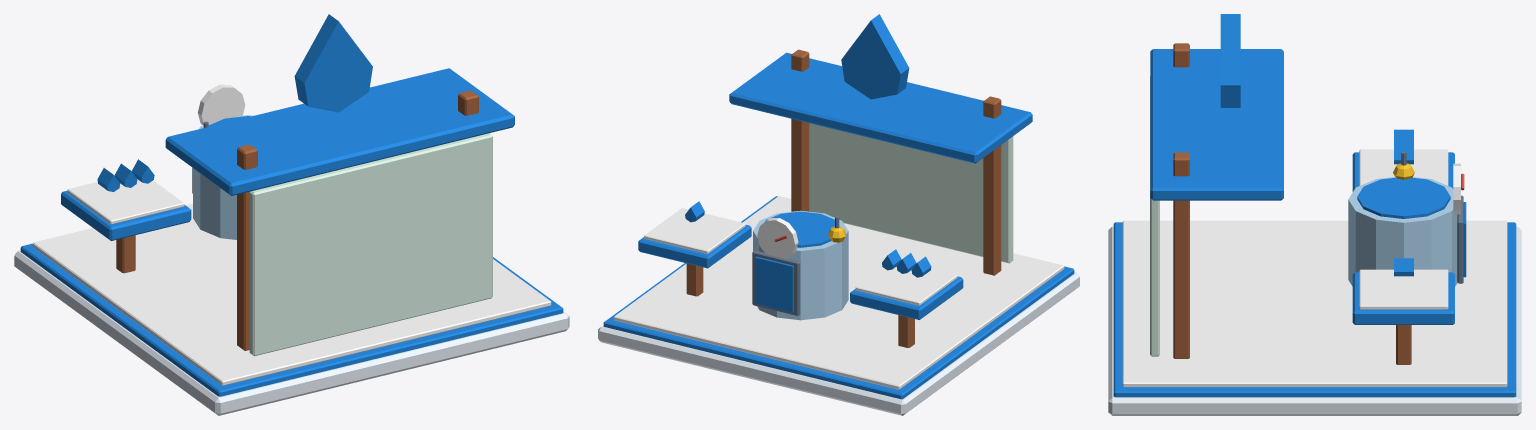
The model's file is Building_WaterAmplifier_2x2_v002.fbx.
3 renders of one model, left to right at view 1: azimuth 30°, elevation 25°; view 2: azimuth 150°, elevation 25°; view 3: azimuth 270°, elevation 25°, orthographic. The views are drawn at different scales.
Parts seen in each view (by area): view 1: FixedShell, OutputItemMesh; view 2: FixedShell, FluidLevelMesh, OutputItemMesh; view 3: FixedShell, OutputItemMesh.
Part boxes in pixels (x1,y1,x2,y2): FixedShell: (14,14,569,415); OutputItemMesh: (97,159,154,191); FixedShell: (598,14,1079,415); FluidLevelMesh: (755,256,793,312); OutputItemMesh: (882,249,931,277); FixedShell: (1108,14,1521,415); OutputItemMesh: (1394,129,1413,164).
Size of the model in its own units: 186 by 157 by 186.
